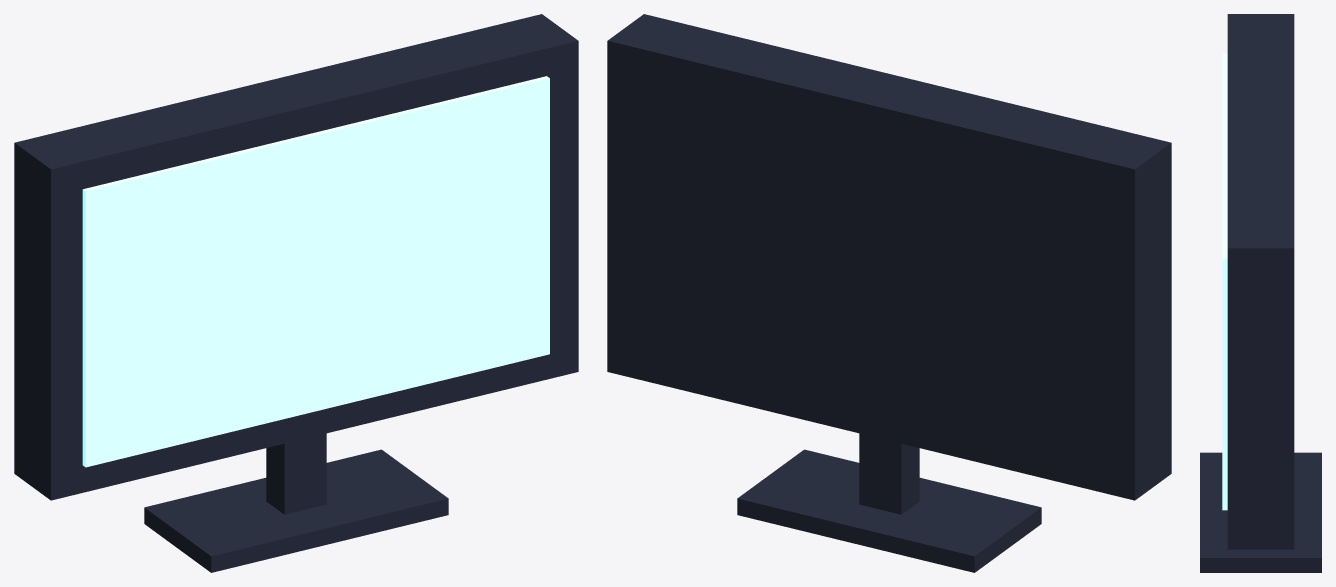
3 views of the same model, side by side, from view 1: azimuth 30°, elevation 25°; view 2: azimuth 150°, elevation 25°; view 3: azimuth 270°, elevation 25° (orthographic). The views are drawn at different scales.
Parts seen in each view (by area): view 1: tv; view 2: tv; view 3: tv.
Boxes of the visible parts, x1,y1,x2,y2 form: tv: [14, 14, 578, 572]; tv: [607, 14, 1171, 572]; tv: [1200, 14, 1321, 572].
Bounding box in the file's own units: 2 × 1.55 × 0.44.
